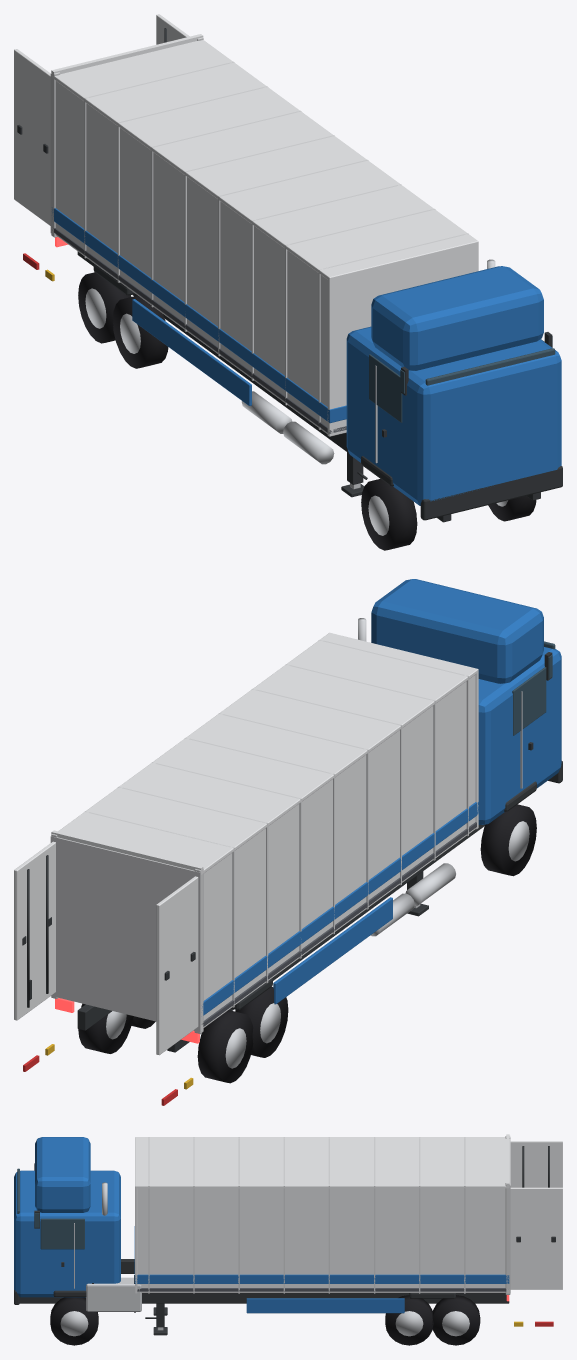
File: truck.glb
3 views of the same model, one above another, from view 1: azimuth 30°, elevation 25°; view 2: azimuth 150°, elevation 25°; view 3: azimuth 270°, elevation 25° (orthographic). The views are drawn at different scales.
Visible parts, largest first — view 1: Cube; view 2: Cube; view 3: Cube.
Boxes of the visible parts, bbox=[...] form: Cube: bbox=[14, 14, 562, 550]; Cube: bbox=[14, 579, 562, 1105]; Cube: bbox=[14, 1134, 562, 1345].
Size of the model in its own units: 2.5 by 3.92 by 11.8.
